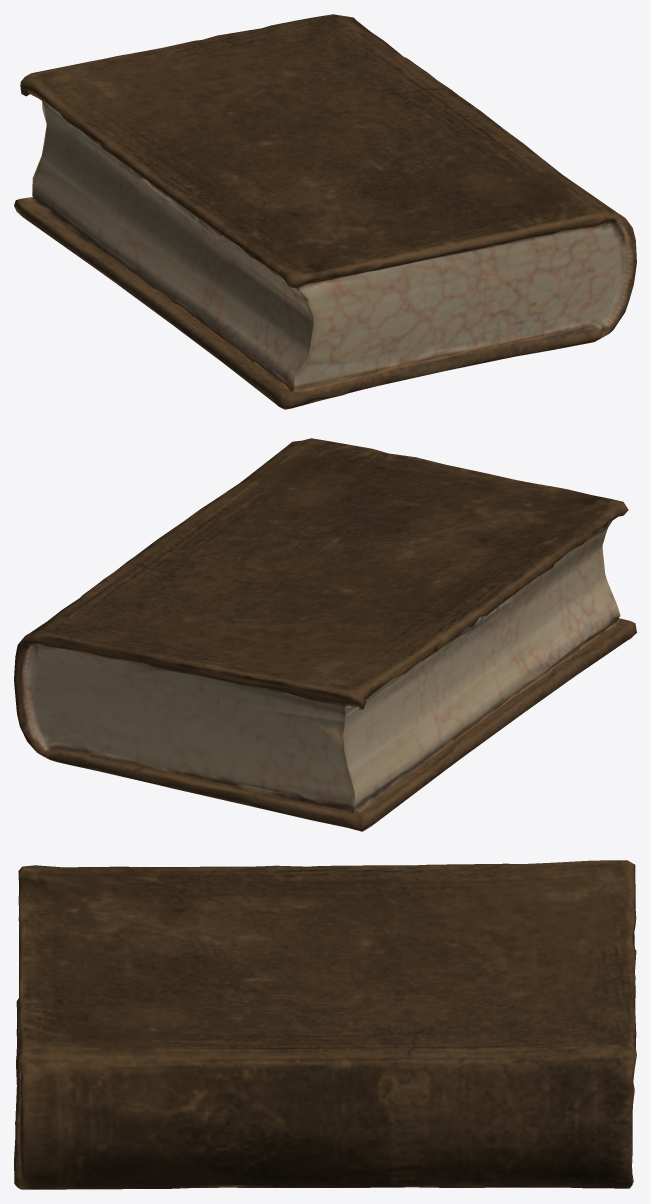
File: SM_Prop_Book_A.fbx
The picture shows the model from 3 angles, top to bottom: view 1: azimuth 30°, elevation 25°; view 2: azimuth 150°, elevation 25°; view 3: azimuth 270°, elevation 25°; orthographic projection. The views are drawn at different scales.
Visible parts, largest first — view 1: SM_Prop_Book_A_LOD0; view 2: SM_Prop_Book_A_LOD0; view 3: SM_Prop_Book_A_LOD0.
Boxes of the visible parts, bbox=[...] form: SM_Prop_Book_A_LOD0: bbox=[14, 14, 636, 409]; SM_Prop_Book_A_LOD0: bbox=[14, 438, 636, 831]; SM_Prop_Book_A_LOD0: bbox=[14, 860, 636, 1189].
Bounding box in the file's own units: 17.07 × 22.72 × 6.48.
1 material, 1 textured.
